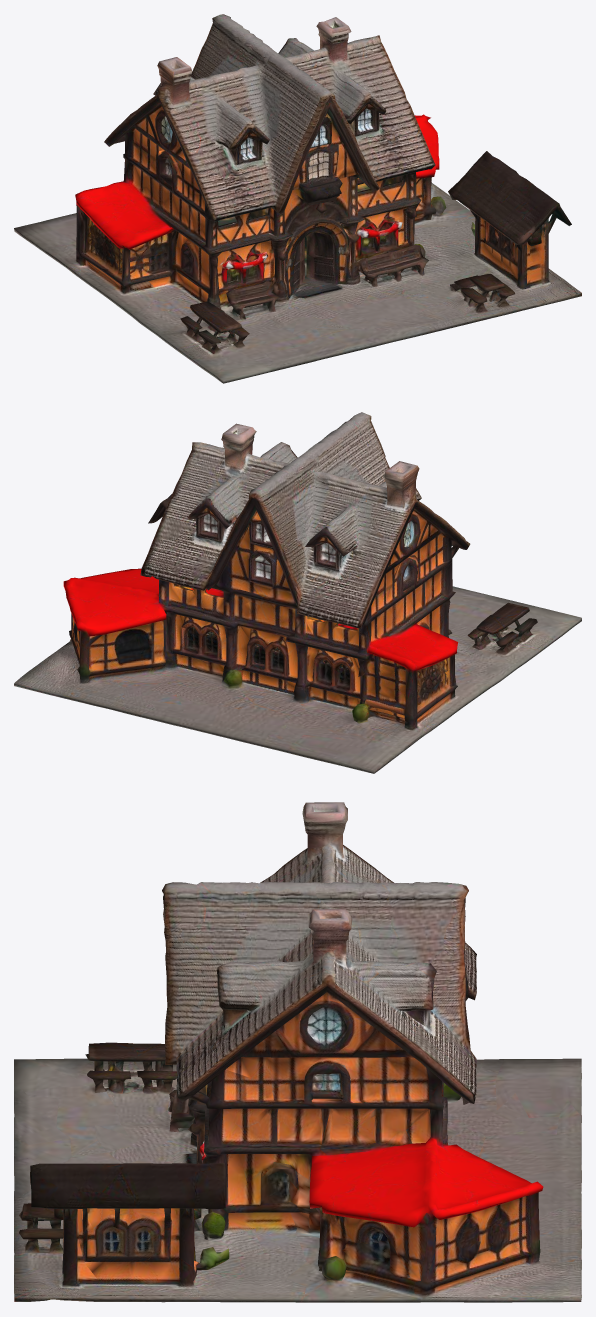
Rendered from advanced.glb.
3 views of the same model, one above another, from view 1: azimuth 30°, elevation 25°; view 2: azimuth 150°, elevation 25°; view 3: azimuth 270°, elevation 25° (orthographic). The views are drawn at different scales.
Bounding box in the file's own units: 1.91 × 1.11 × 1.9.
1 material, 1 textured.
